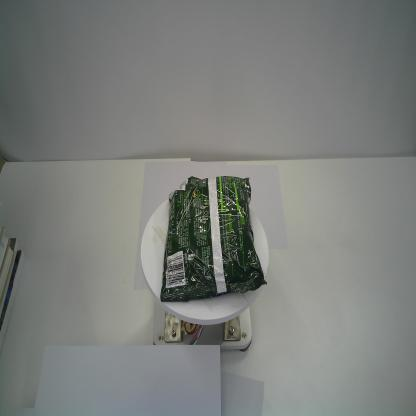Instant Noodles: (159, 174, 268, 304)
